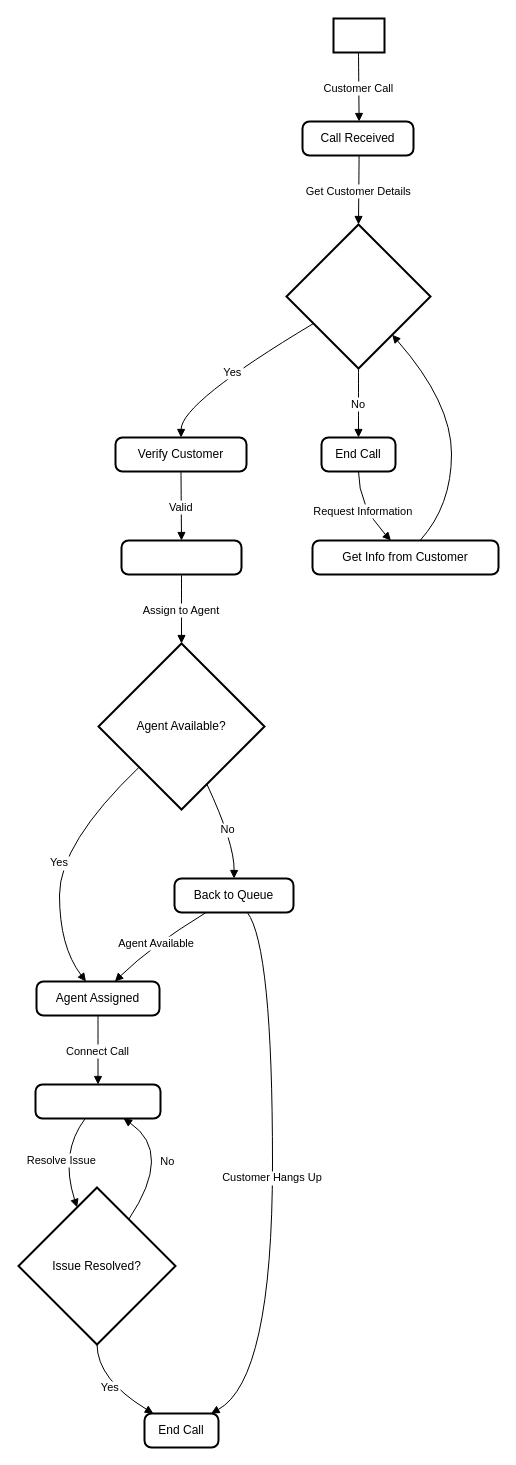
The diagram is 516 pixels wide and 1465 high, and some of its shapes have lost their labels. The shapes that lost their labels are listed below. From the top down, each one's centre as x and y in pixels, then its label:
(358,35): Start
(358,296): Details Valid?
(181,557): Send to Queue
(97,1101): Call in Progress
